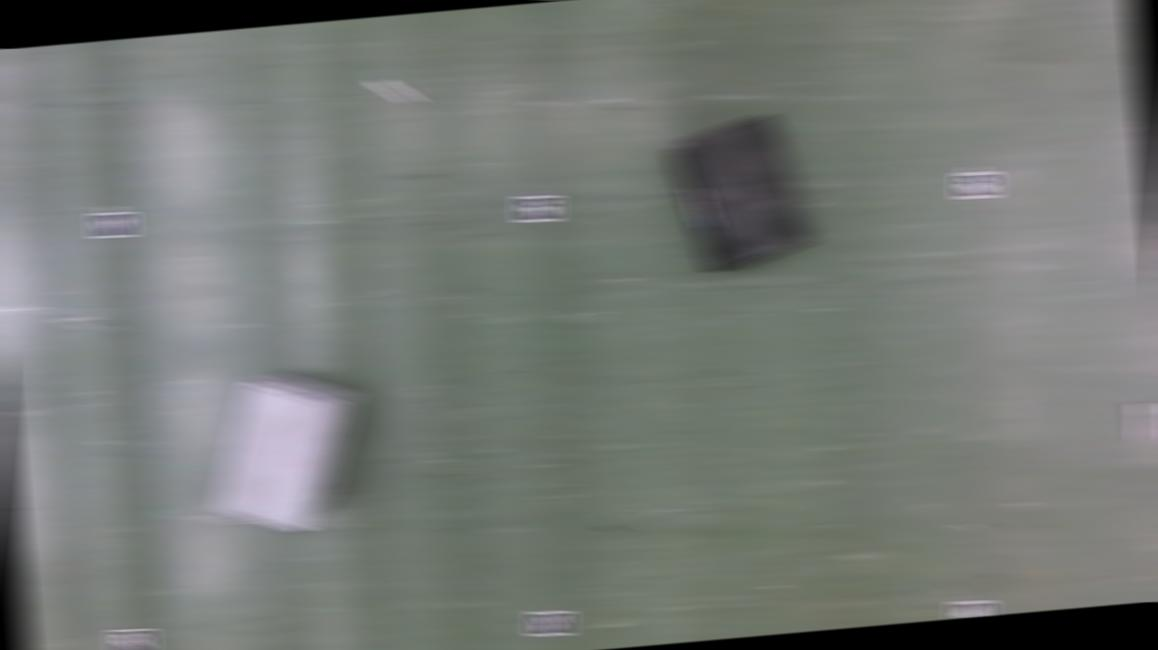probes: (372, 75, 420, 108), (1128, 400, 1154, 443)
rako: (204, 362, 372, 538), (664, 108, 818, 272)
